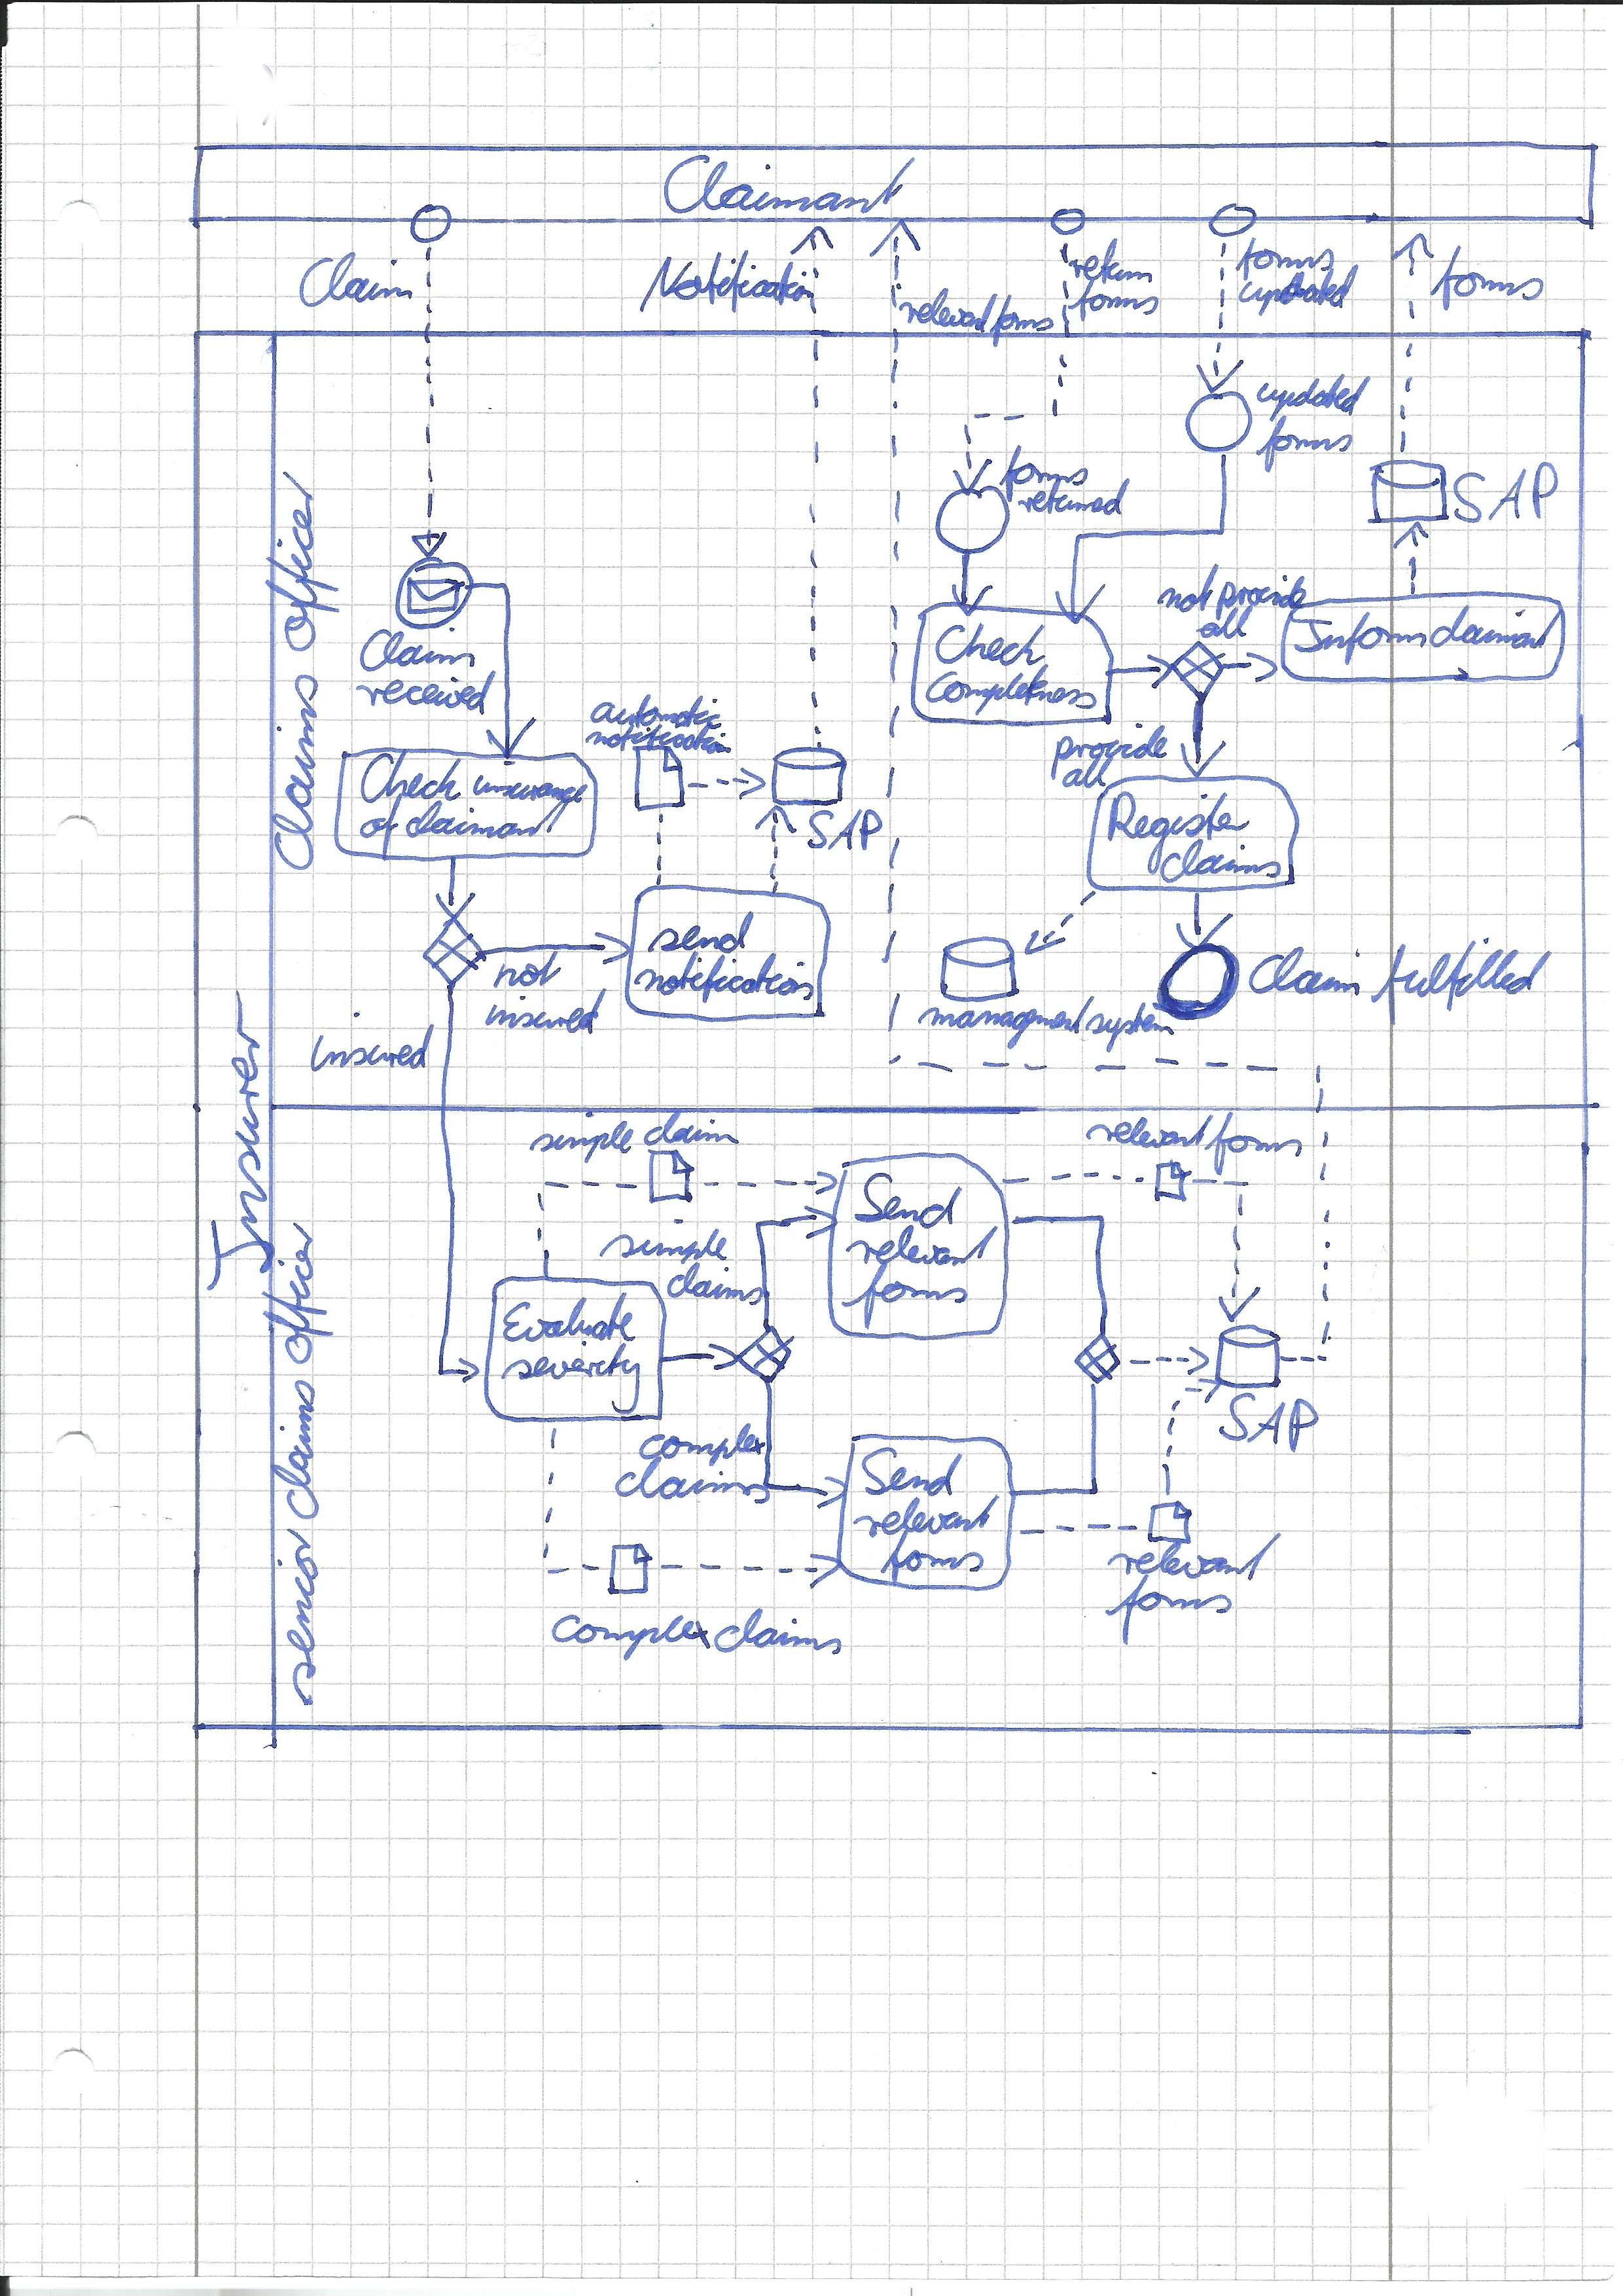Check: (940, 622, 1049, 671), (362, 754, 465, 805)
Claim: (290, 242, 415, 304), (358, 627, 481, 678), (1247, 945, 1361, 1000)
Claimant: (666, 151, 910, 214)
Claims: (265, 668, 332, 866)
Complex: (550, 1609, 708, 1658)
Evaluate: (502, 1293, 638, 1344)
Inform: (1295, 601, 1426, 666)
Insured: (302, 1035, 430, 1075)
Insurer: (204, 1003, 270, 1279)
Notification: (643, 251, 819, 320)
Register: (1110, 792, 1251, 838)
SAP: (1451, 460, 1558, 523), (1223, 1386, 1319, 1453), (803, 806, 884, 852)
Send: (859, 1173, 964, 1230), (862, 1448, 968, 1500)
all: (1194, 604, 1254, 645), (1059, 755, 1112, 789)
automatic: (594, 697, 724, 727)
claim: (648, 1112, 736, 1149)
claimant: (1430, 603, 1554, 661), (408, 805, 560, 843)
claims: (270, 1368, 328, 1518), (717, 1609, 843, 1664), (613, 1467, 776, 1507), (1159, 843, 1282, 880), (666, 1270, 764, 1307)
completeness: (920, 666, 1096, 718)
complex: (636, 1426, 762, 1469)
forms: (1432, 246, 1547, 309), (1107, 1578, 1235, 1628), (1254, 413, 1356, 467), (1207, 1114, 1305, 1166), (857, 1272, 970, 1316), (1230, 228, 1337, 271), (880, 1534, 989, 1574), (1001, 448, 1089, 490), (1080, 279, 1161, 323), (994, 290, 1052, 341)
fulfilled: (1368, 933, 1553, 1010)
iinsurance: (472, 754, 590, 805)
insured: (481, 1001, 604, 1036)
management: (922, 998, 1087, 1038)
not: (1159, 560, 1212, 617), (492, 954, 562, 991)
notification: (638, 957, 815, 1005), (592, 724, 738, 759)
of: (362, 801, 406, 843)
officer: (269, 481, 334, 648), (269, 1216, 328, 1360)
provide: (1050, 727, 1173, 762), (1215, 573, 1310, 610)
received: (362, 676, 494, 718)
relevant: (1112, 1537, 1277, 1590), (852, 1224, 999, 1272), (855, 1495, 998, 1541), (1094, 1108, 1205, 1156), (905, 278, 992, 330)
return: (1070, 244, 1156, 286)
returned: (1021, 480, 1133, 516)
send: (655, 915, 752, 952)
senior: (270, 1532, 328, 1692)
severity: (509, 1344, 638, 1384)
simple: (522, 1119, 638, 1163), (610, 1224, 732, 1265)
system: (1089, 1007, 1173, 1035)
updated: (1258, 372, 1368, 418), (1242, 271, 1358, 309)
